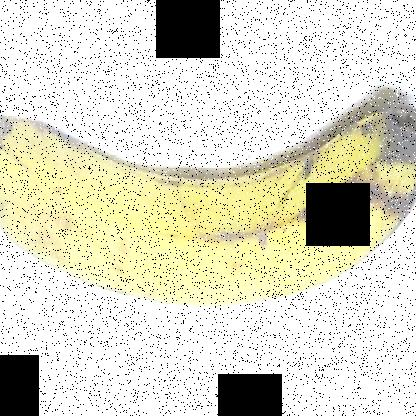ripe: (1, 84, 415, 310)
